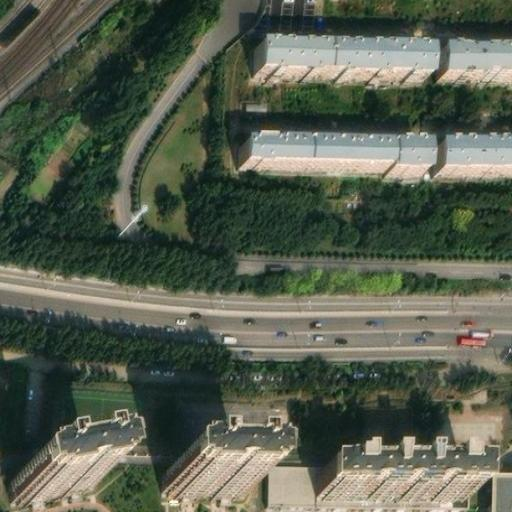building: (269, 461, 473, 499), (245, 137, 428, 171), (259, 41, 429, 74), (315, 464, 473, 499), (14, 449, 105, 496), (166, 456, 256, 494), (437, 141, 512, 171), (443, 45, 512, 75), (494, 470, 512, 512)
